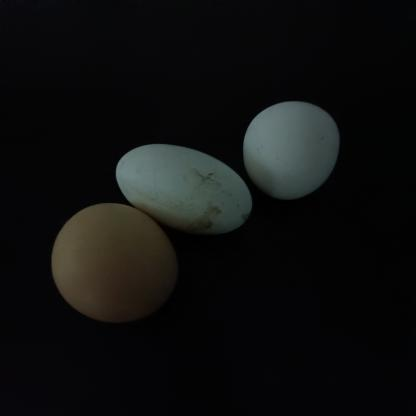egg: (44, 198, 189, 336), (104, 130, 261, 232), (236, 95, 347, 200)
